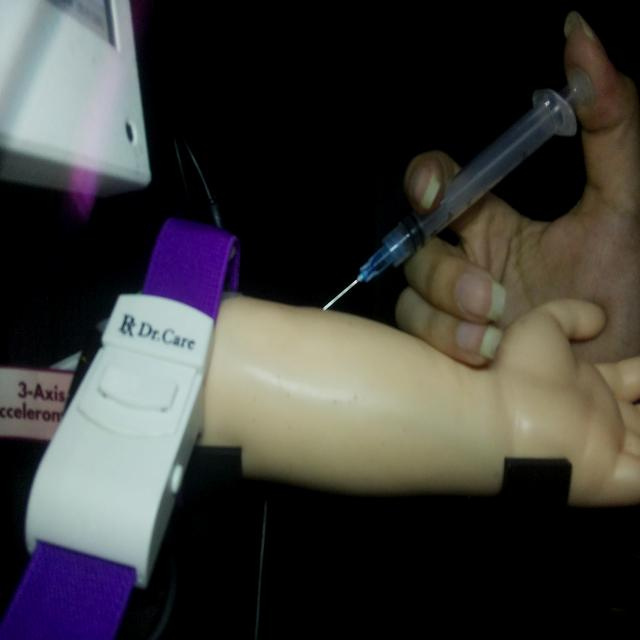28 degrees: (321, 64, 594, 313)
